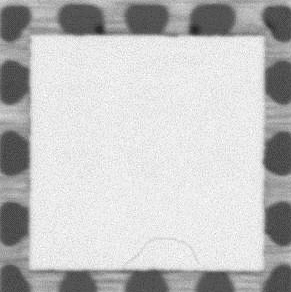DIE_CRACK: (123, 238, 198, 268)
